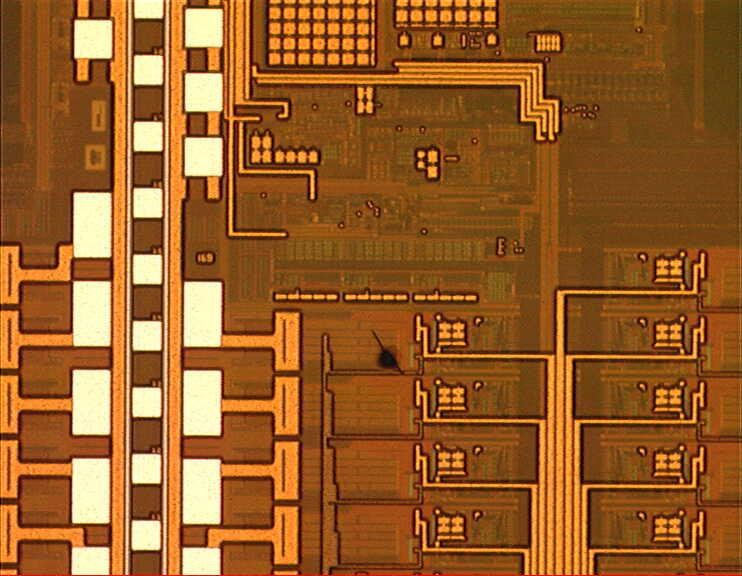PIQ PARTICLE: (368, 326, 410, 378)
